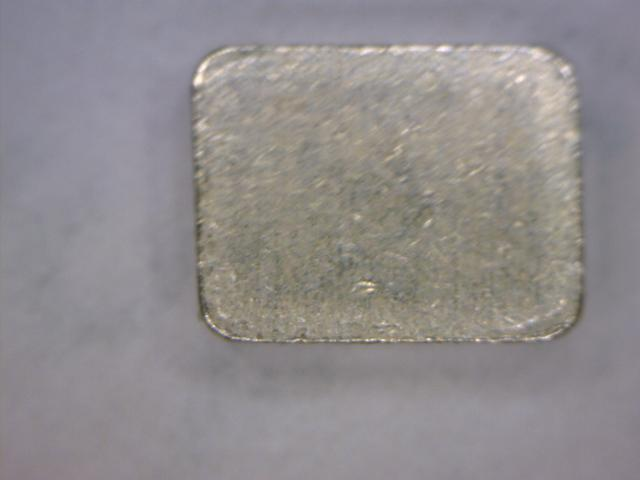ok: (184, 35, 593, 352)
